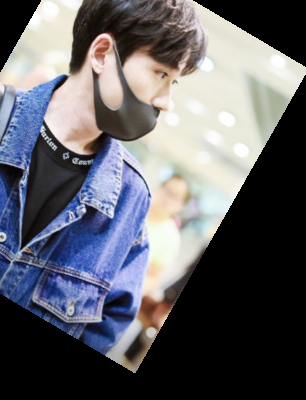mask_weared_incorrect: (57, 1, 214, 143)
